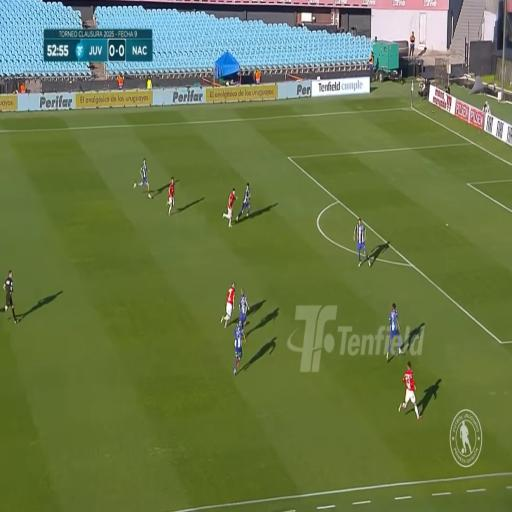Player: (389, 302, 400, 353), (405, 363, 415, 416), (221, 189, 236, 223), (356, 218, 367, 256), (225, 283, 234, 325), (235, 323, 243, 370), (238, 284, 247, 322), (140, 158, 148, 200), (165, 180, 174, 216), (244, 180, 250, 216)
Referee: (2, 271, 14, 319)
